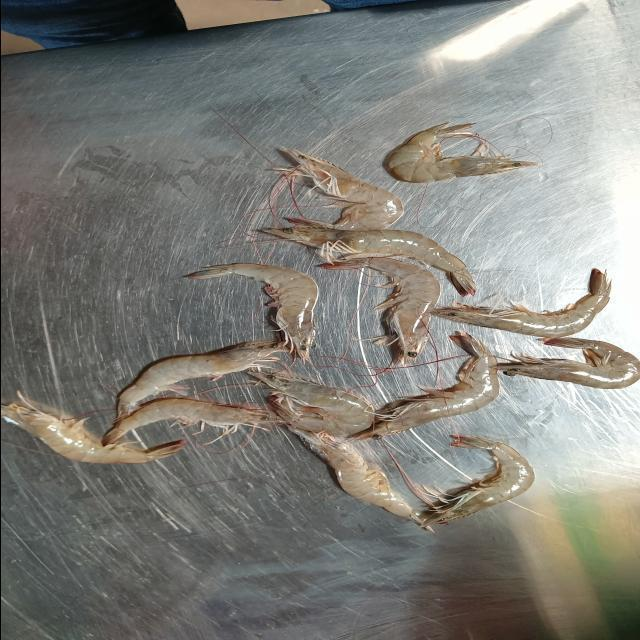shrimp: (361, 334, 505, 444), (261, 232, 476, 300), (319, 261, 443, 369), (126, 345, 290, 426), (299, 432, 434, 528), (0, 405, 195, 471), (188, 270, 321, 366), (432, 270, 611, 340), (273, 154, 401, 236), (432, 438, 543, 530), (383, 128, 532, 188), (111, 404, 286, 452), (253, 376, 381, 440), (501, 339, 640, 390), (341, 258, 366, 275), (485, 150, 503, 156)
